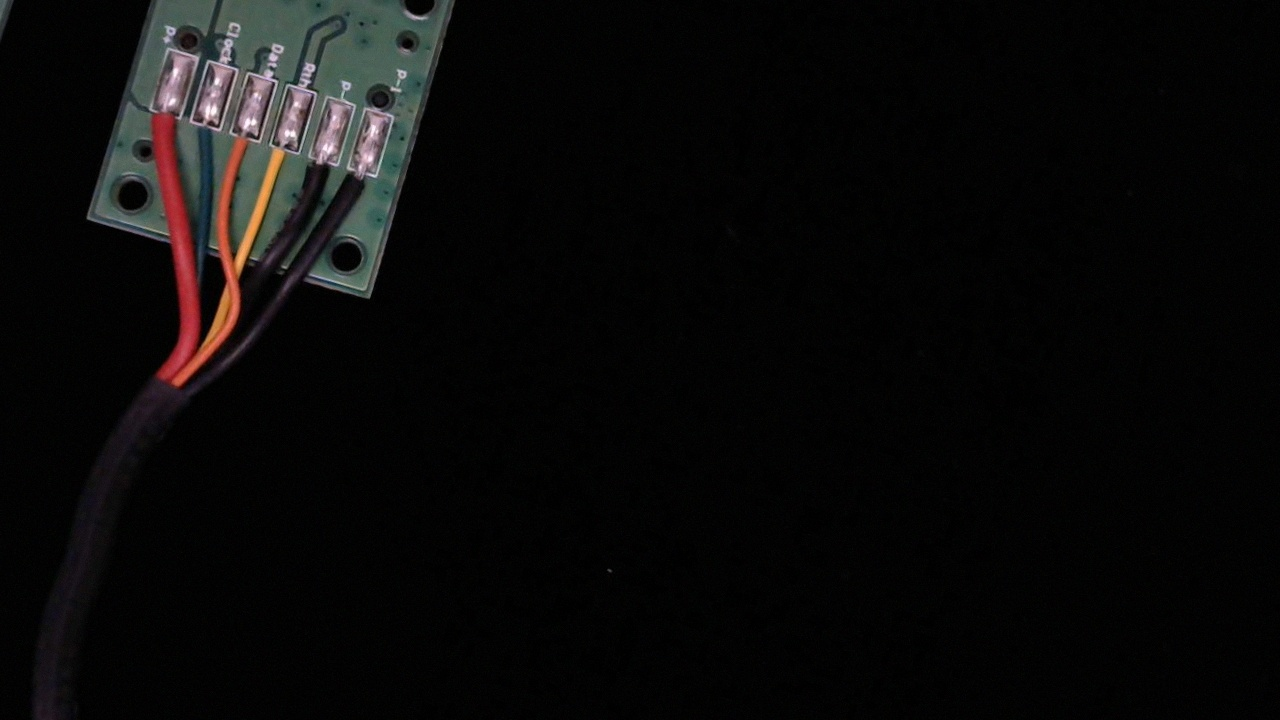Black: (288, 139, 343, 219)
Black1: (332, 151, 384, 225)
Green: (172, 102, 226, 179)
Orange: (213, 116, 266, 195)
Red: (131, 96, 185, 173)
Yellow: (250, 125, 306, 206)
